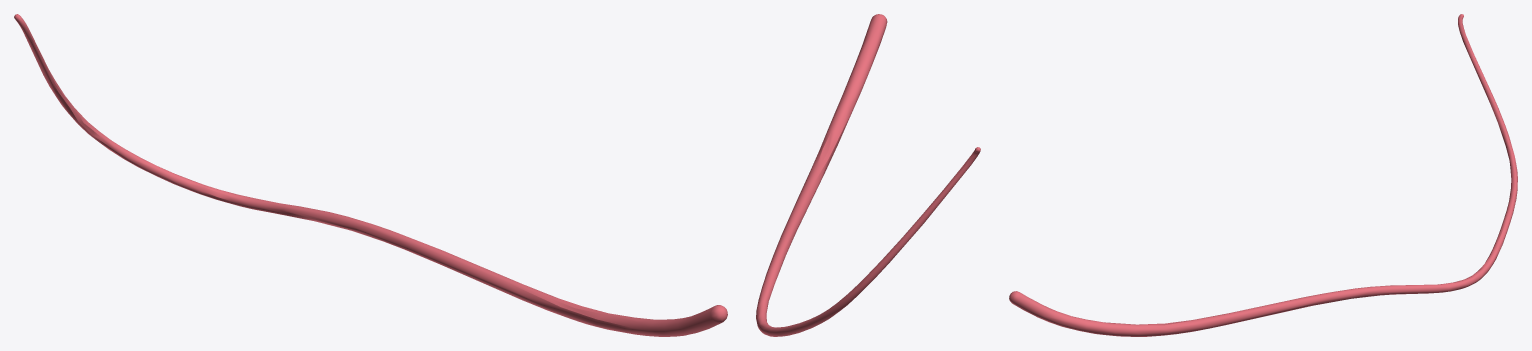
File: fma44918_fj2202.glb
3 views of the same model, side by side, from view 1: azimuth 30°, elevation 25°; view 2: azimuth 150°, elevation 25°; view 3: azimuth 270°, elevation 25° (orthographic). The views are drawn at different scales.
Parts seen in each view (by area): view 1: FMA44918_FJ2202; view 2: FMA44918_FJ2202; view 3: FMA44918_FJ2202.
Boxes of the visible parts, left/top/right/bottom form: FMA44918_FJ2202: left=14, top=14, right=727, bottom=336; FMA44918_FJ2202: left=756, top=14, right=980, bottom=336; FMA44918_FJ2202: left=1009, top=14, right=1517, bottom=336.
Size of the model in its own units: 0.0446 by 0.0258 by 0.0631.
